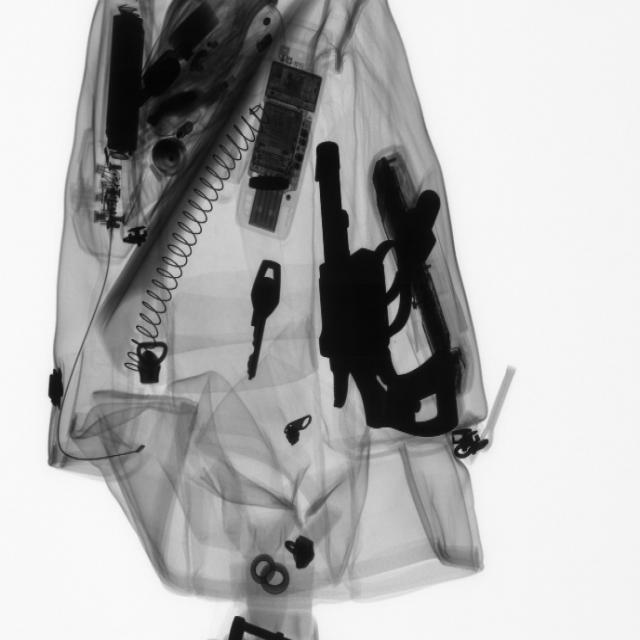GUN: (315, 130, 449, 457)
